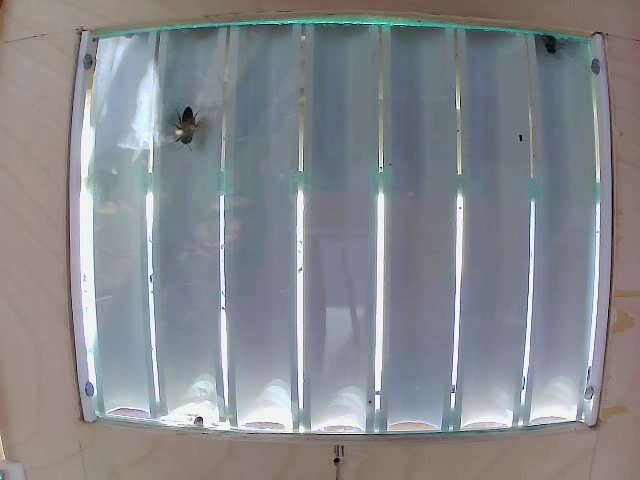bee: (185, 107, 222, 159)
